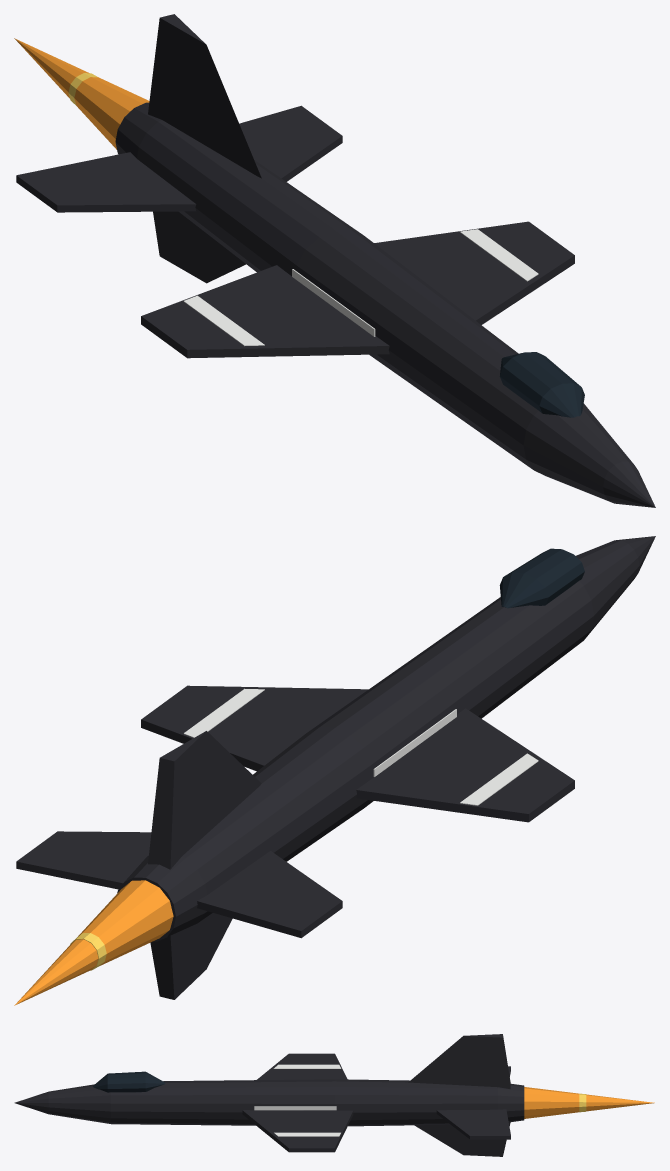
3 views of the same model, one above another, from view 1: azimuth 30°, elevation 25°; view 2: azimuth 150°, elevation 25°; view 3: azimuth 270°, elevation 25° (orthographic). The views are drawn at different scales.
Parts seen in each view (by area): view 1: x15 body; view 2: x15 body; view 3: x15 body.
Boxes of the visible parts, x1,y1,x2,y2 form: x15 body: (14, 14, 655, 507); x15 body: (14, 536, 655, 1005); x15 body: (14, 1034, 654, 1156).
Size of the model in its own units: 6.8 by 4 by 19.5.
